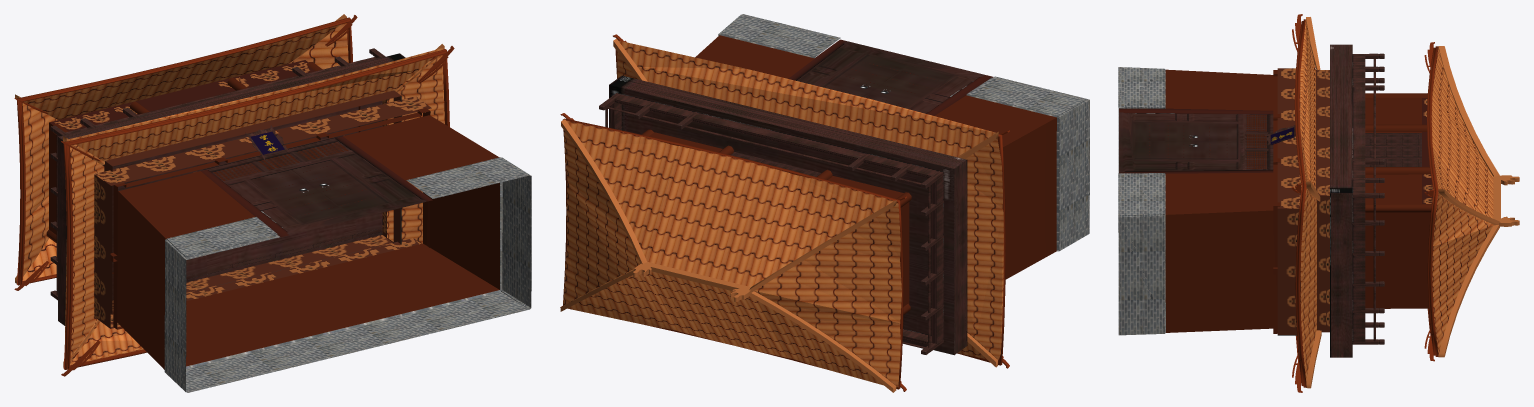
3 views of the same model, side by side, from view 1: azimuth 30°, elevation 25°; view 2: azimuth 150°, elevation 25°; view 3: azimuth 270°, elevation 25° (orthographic). The views are drawn at different scales.
Visible parts, largest first — view 1: wang; view 2: wang; view 3: wang.
Part boxes in pixels (x1,y1,x2,y2): wang: (14,14,531,392); wang: (560,14,1089,392); wang: (1118,14,1519,392).
Size of the model in its own units: 444 by 254 by 441.
Materials: 15 (12 with a texture image).
